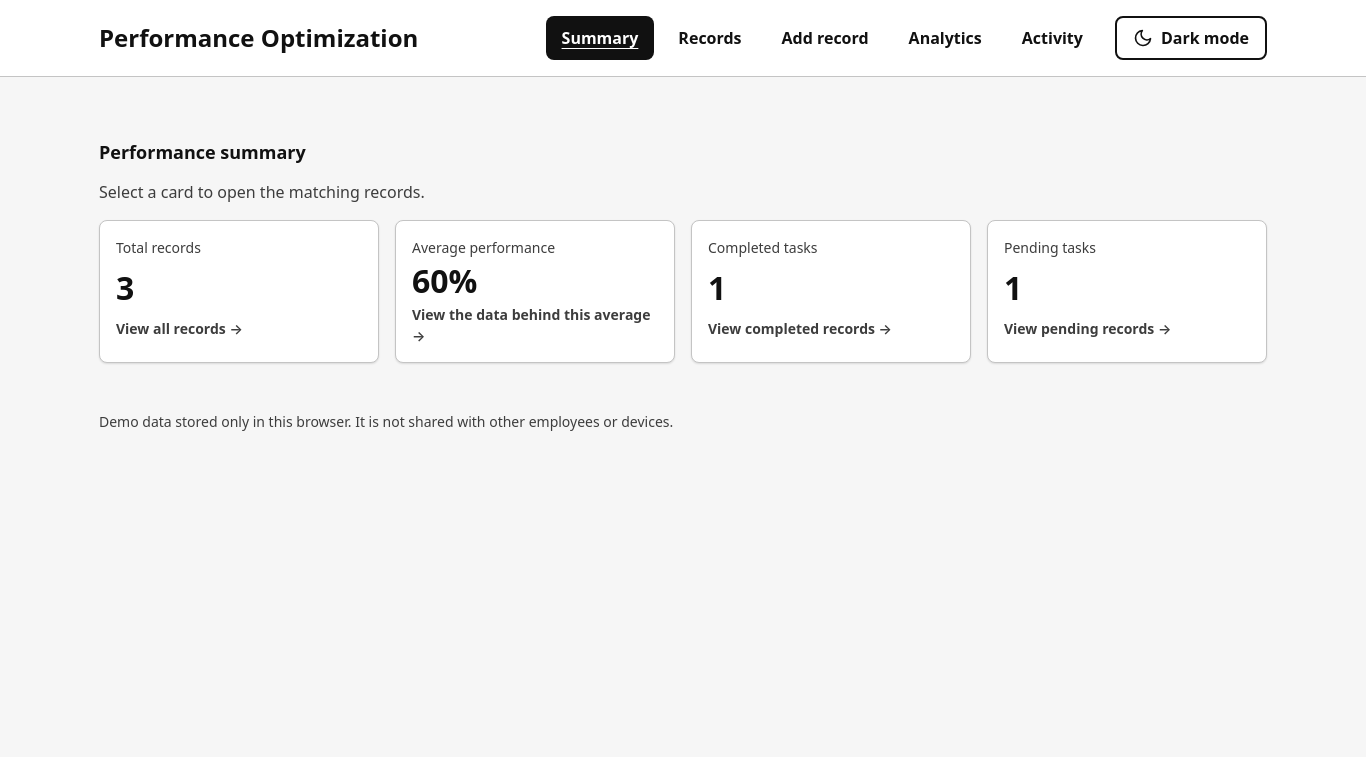
Test case: interactive summary cards › Average performance opens the records behind the average, highest first, with an explanation
The width and height of the screenshot is (1366, 757).
Click the button "Average performance 60% View the data behind this average →": x=484, y=247 [395, 220, 675, 363]
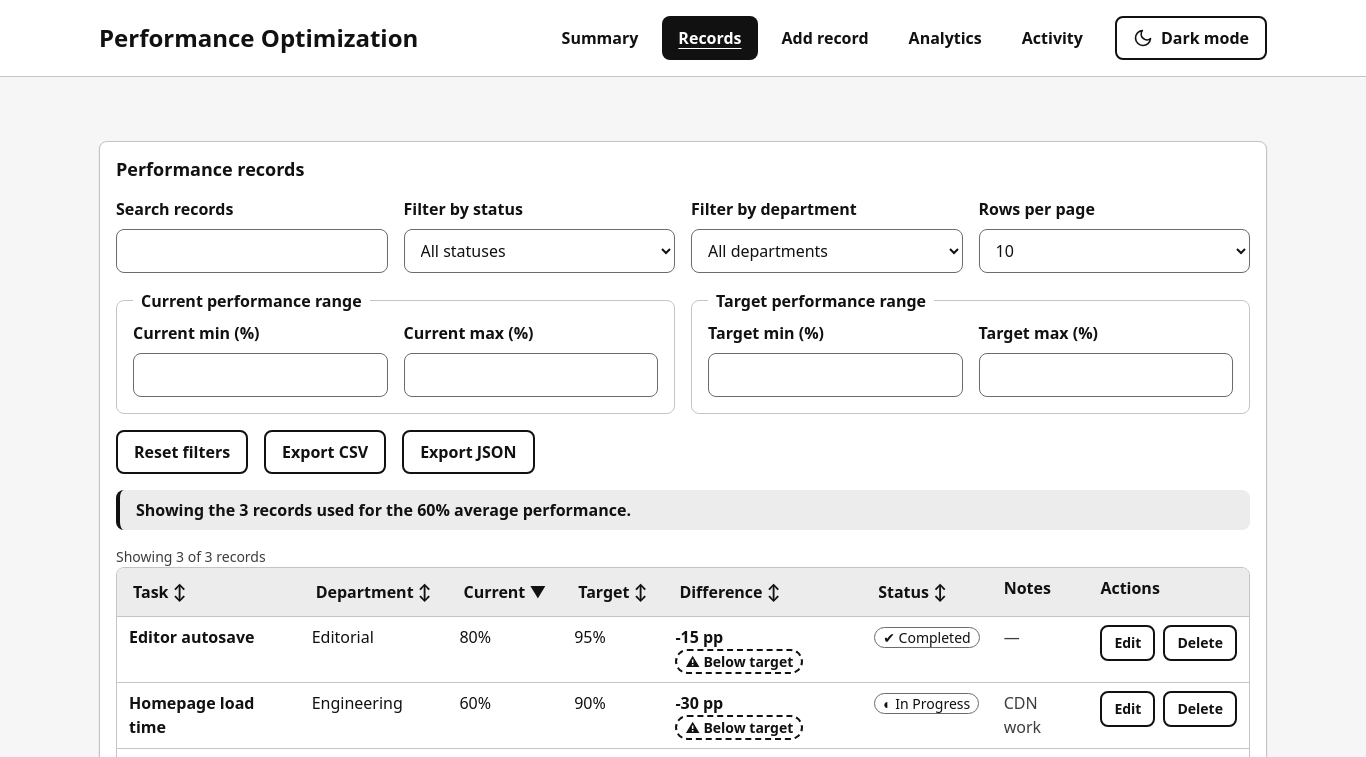
Expected: the text "Showing the 3 records used for the 60% average performance." is shown, [116, 490, 1250, 530]
Expected: the row that starts with "Editor autosave" is shown, [129, 626, 254, 648]
